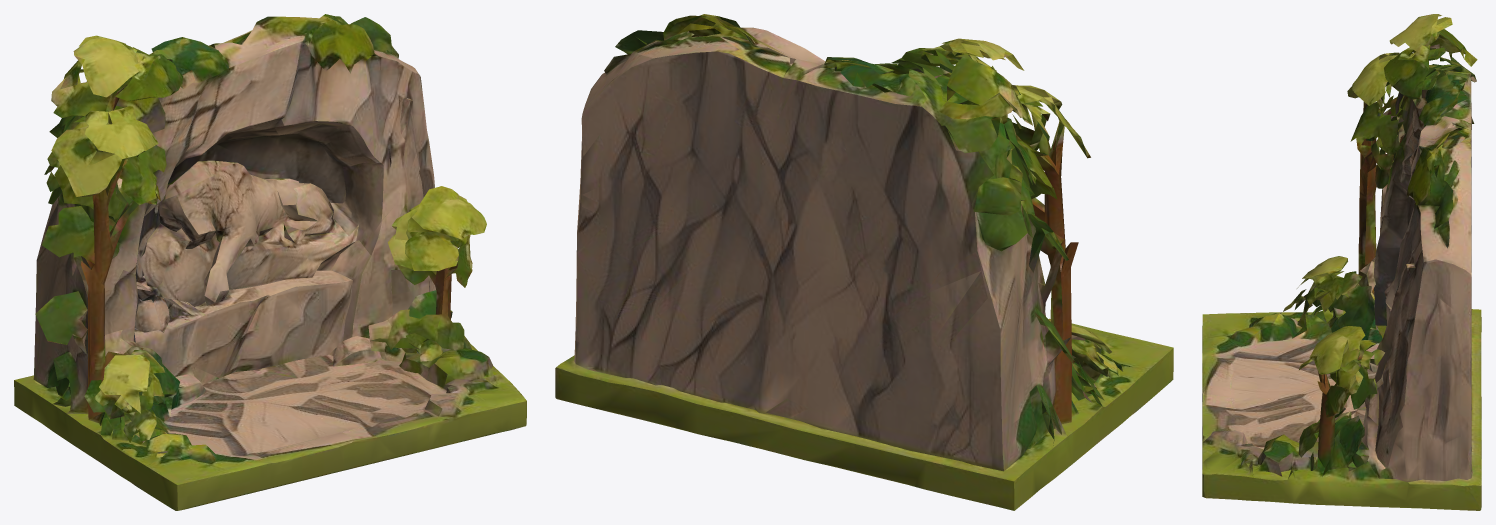
Rendered from lion-monument-lucerne.glb.
3 views of the same model, side by side, from view 1: azimuth 30°, elevation 25°; view 2: azimuth 150°, elevation 25°; view 3: azimuth 270°, elevation 25° (orthographic). The views are drawn at different scales.
Parts seen in each view (by area): view 1: logan-textured.obj; view 2: logan-textured.obj; view 3: logan-textured.obj.
Boxes of the visible parts, left/top/right/bottom form: logan-textured.obj: left=14, top=14, right=526, bottom=510; logan-textured.obj: left=555, top=14, right=1173, bottom=510; logan-textured.obj: left=1202, top=14, right=1481, bottom=510.
Bounding box in the file's own units: 1 × 0.8777 × 0.6461.
1 material, 1 textured.
